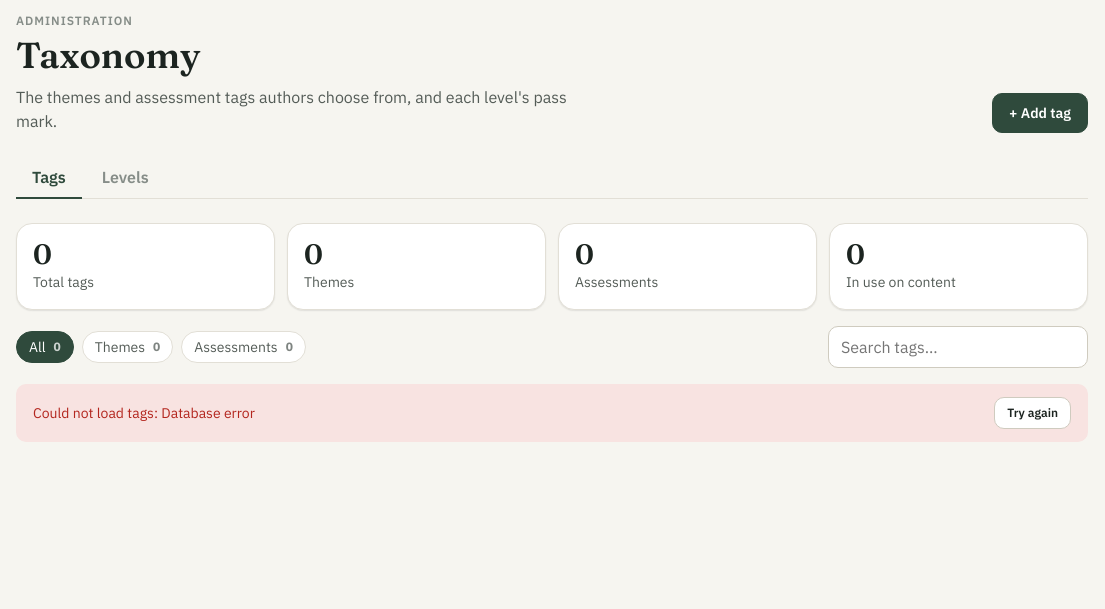
Test: TaxonomyAdminScreen › invalid: a failed tag load shows the error with a retry, not an empty table
This screenshot has width=1105, height=609.
Expected: the message with test id "tags-error" shows "Database error", [33,404,255,422]
Click the button "Try again" at (1033, 413), box [994,397,1071,429]
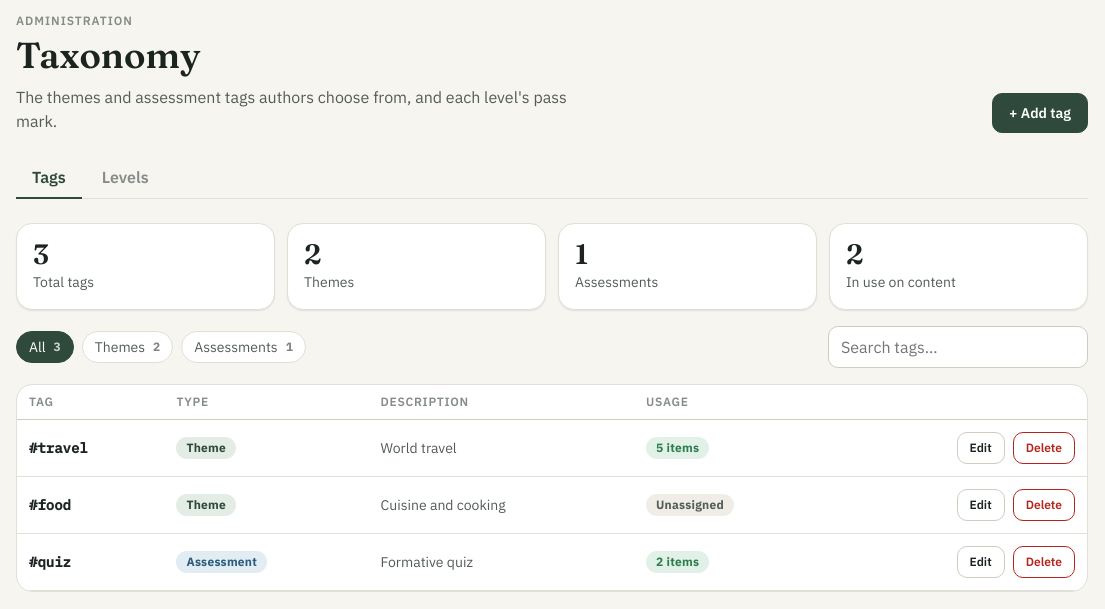
Expected: the number of rows with test id "tag-row" is 3, [17,420,1087,477]; [17,477,1087,534]; [17,534,1087,591]
